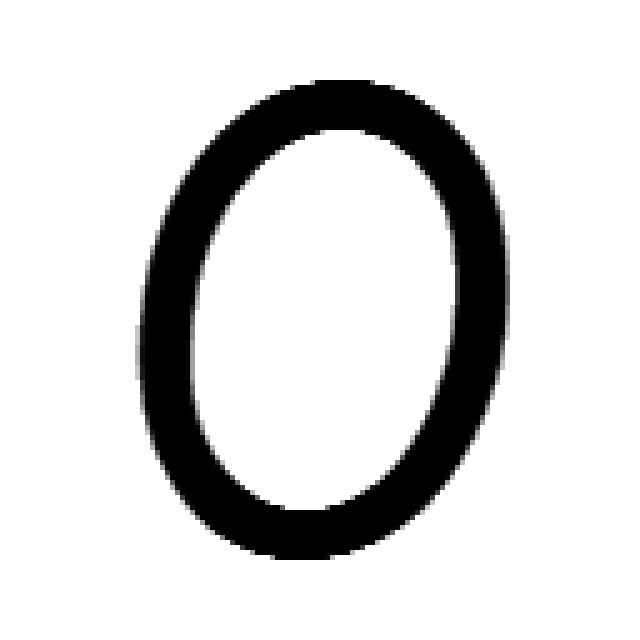O: (135, 80, 515, 565)
